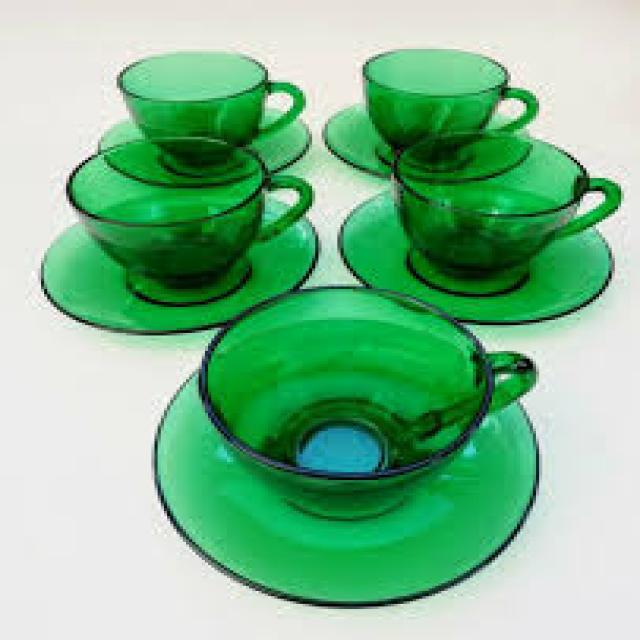glass: (151, 318, 536, 607), (195, 284, 536, 519), (66, 134, 312, 305), (337, 178, 612, 325), (38, 191, 318, 333), (388, 127, 621, 294), (114, 49, 303, 170), (360, 46, 539, 168), (322, 90, 536, 178), (98, 103, 306, 183)
